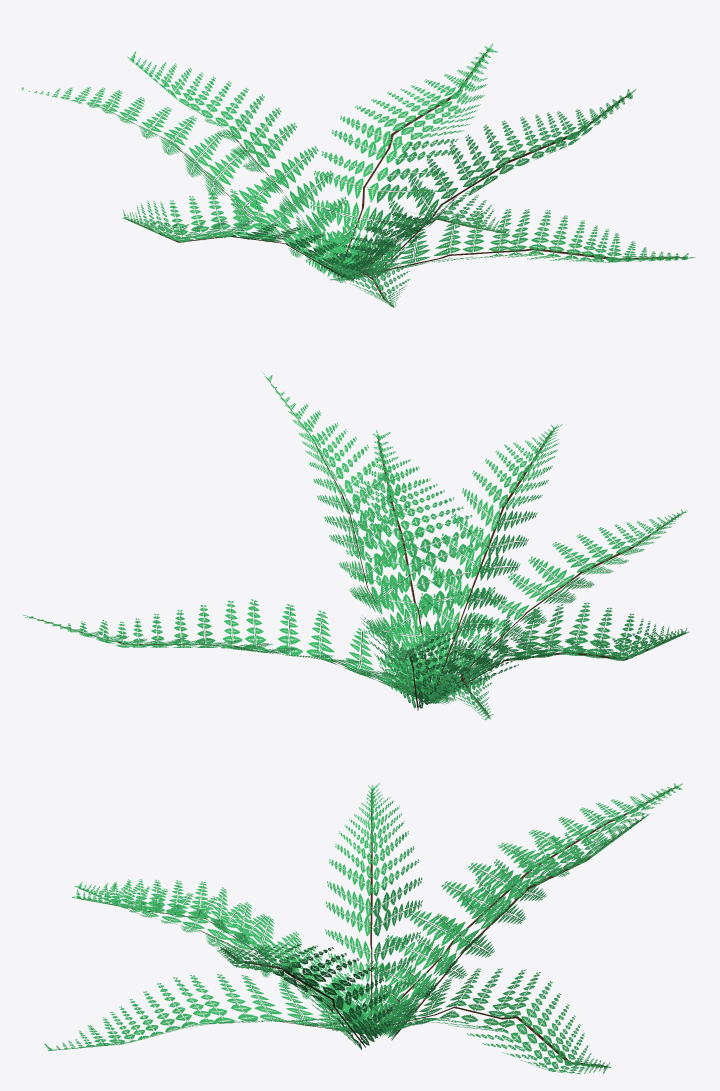
The model's file is fern_5.fbx.
3 renders of one model, top to bottom at view 1: azimuth 30°, elevation 25°; view 2: azimuth 150°, elevation 25°; view 3: azimuth 270°, elevation 25°, orthographic. The views are drawn at different scales.
Visible parts, largest first — view 1: fern_5; view 2: fern_5; view 3: fern_5.
Boxes of the visible parts, x1,y1,x2,y2 form: fern_5: [21, 43, 694, 307]; fern_5: [22, 372, 689, 720]; fern_5: [44, 783, 682, 1074].
Size of the model in its own units: 392 by 159 by 420.
1 material, 1 textured.
